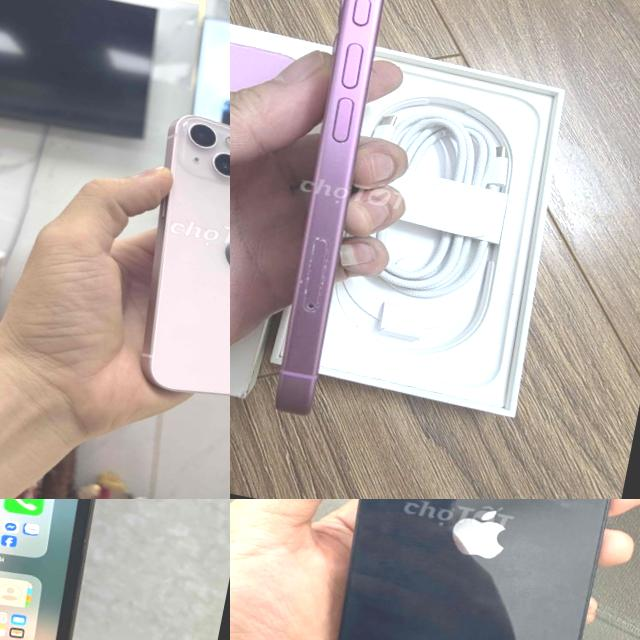gen_12_13: (280, 499, 640, 640), (117, 107, 230, 415)
gen_16: (276, 0, 384, 413)
gen_6: (0, 499, 94, 640)
